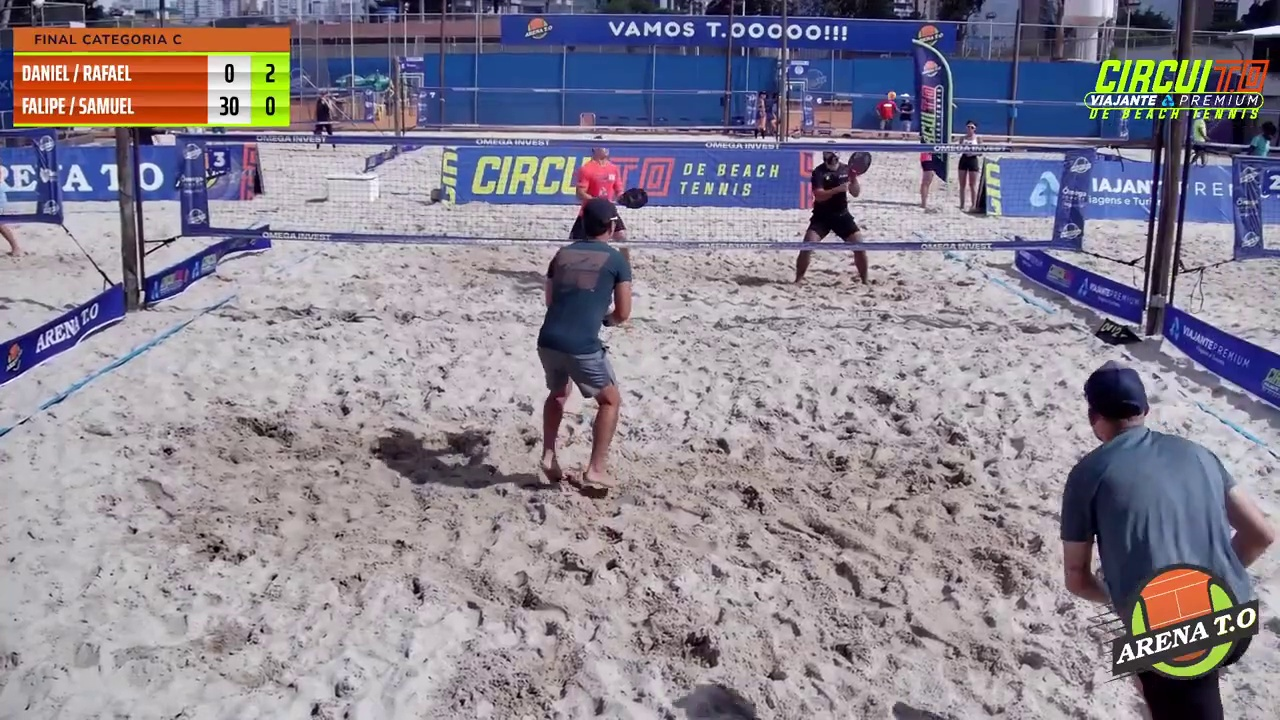court_line: (634, 0, 798, 353)
